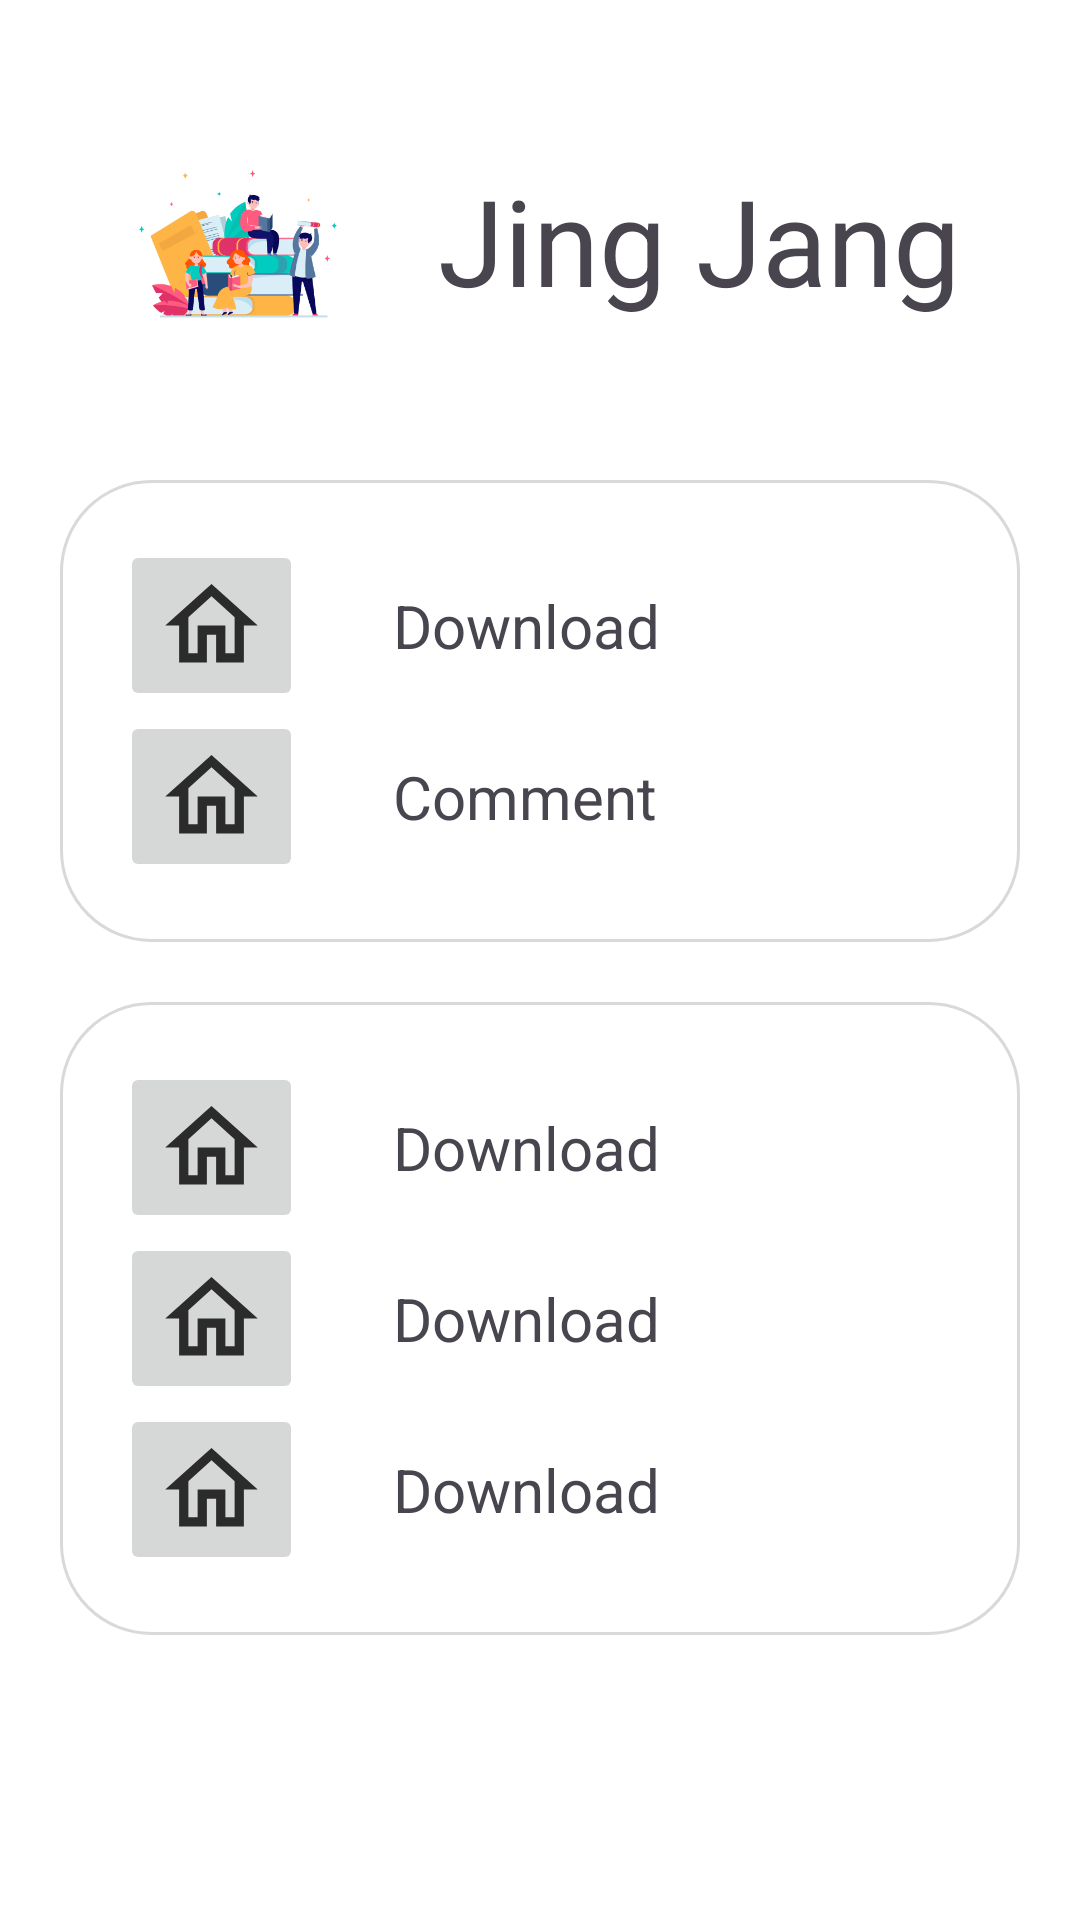

Icons on this 1080 × 1920 Android screen, each with its box as (x1,y1,x2,y2):
home: (132,558,291,693), (132,729,291,864), (132,1080,291,1215), (132,1251,291,1386), (132,1422,291,1557)
welcome: (139,170,337,318)
